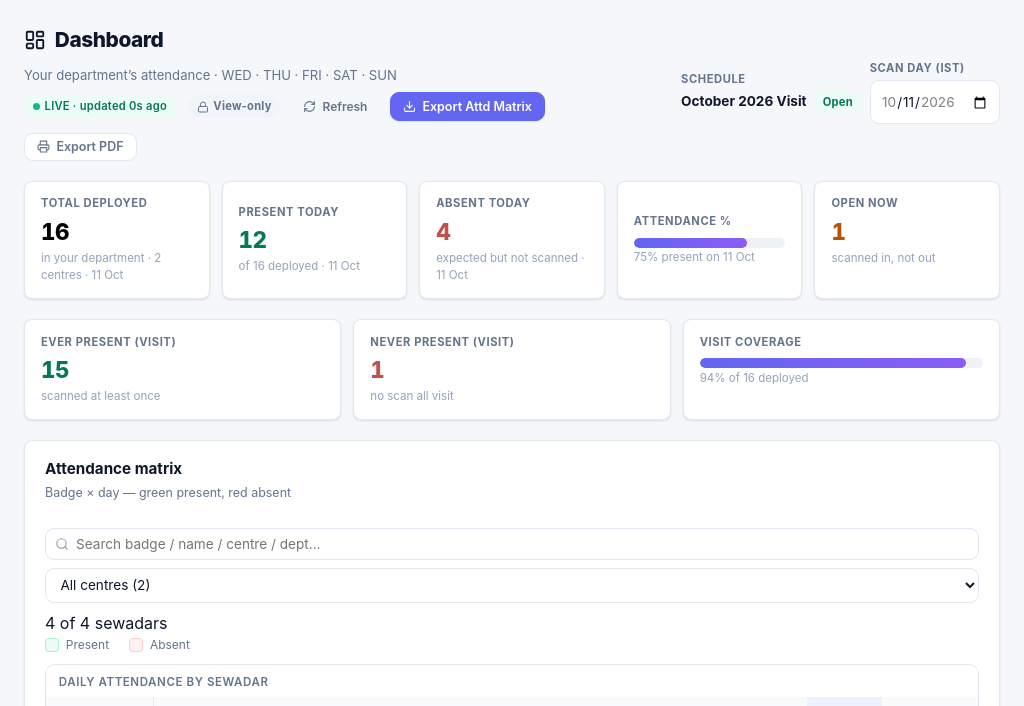
DeptInchargeDashboardPage — matrix search and centre filter › filters to one centre and explains an empty result
Select "NOIDA" in the dropdown named "Filter matrix by centre": (512, 585) [45, 568, 979, 603]
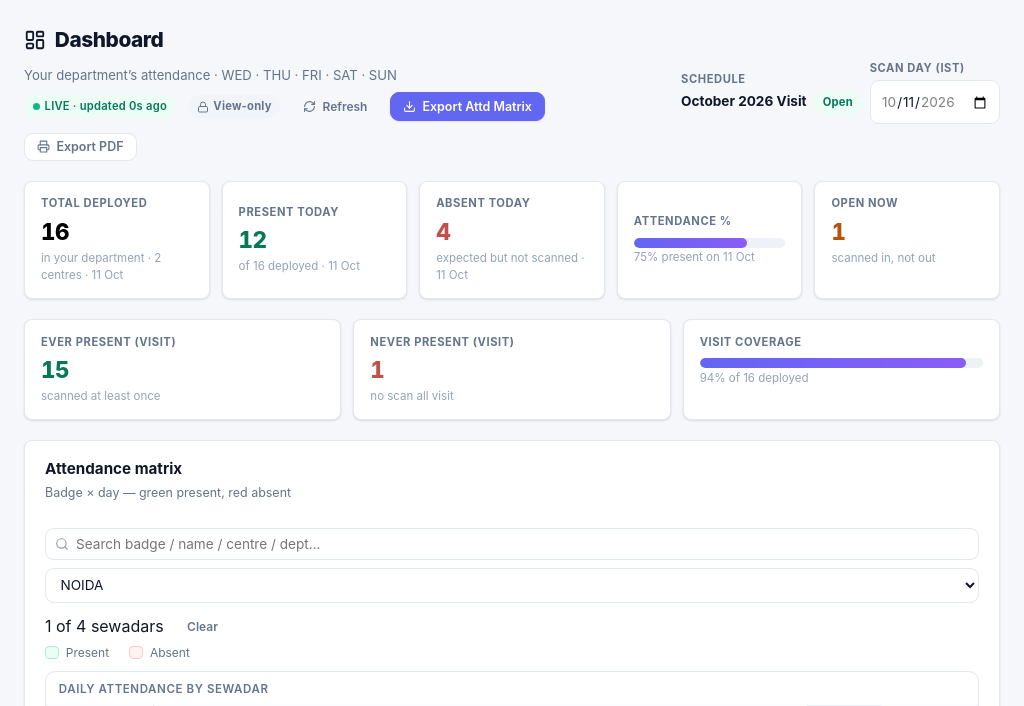
Check: the text "1 of 4 sewadars" is shown, box [45, 614, 164, 638]
// Search inside the centre filter: nothing matches, with guidance.
In the field named "Search attendance matrix": (512, 544) [45, 528, 979, 560], type "zzz"
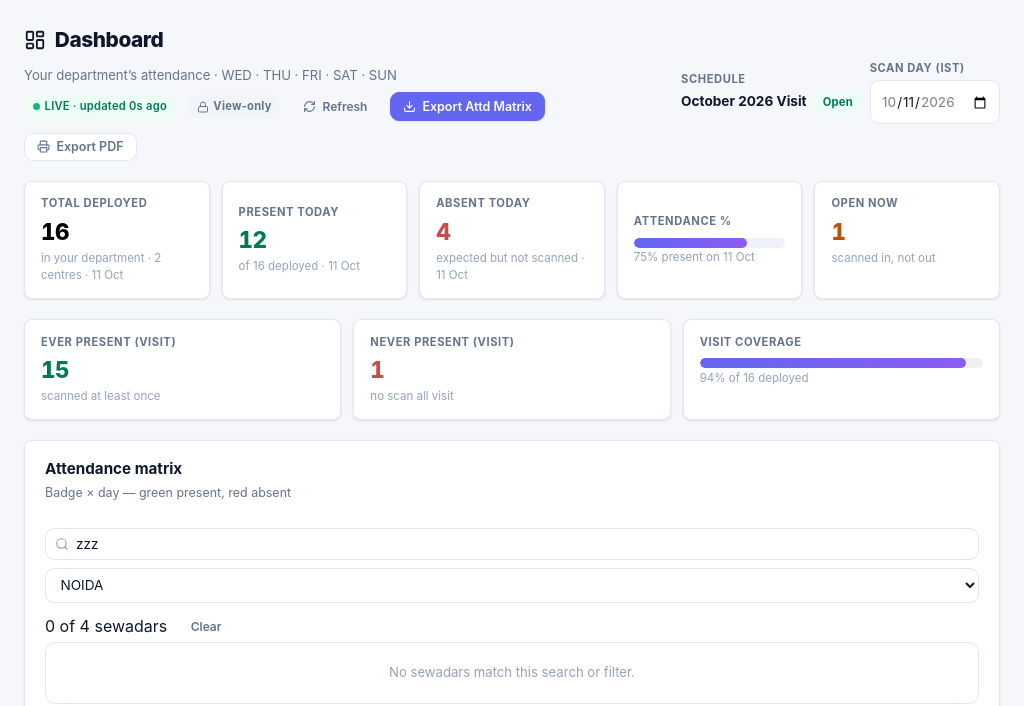
Check: the text "No sewadars match this search or filter." is shown, box [45, 642, 979, 704]
